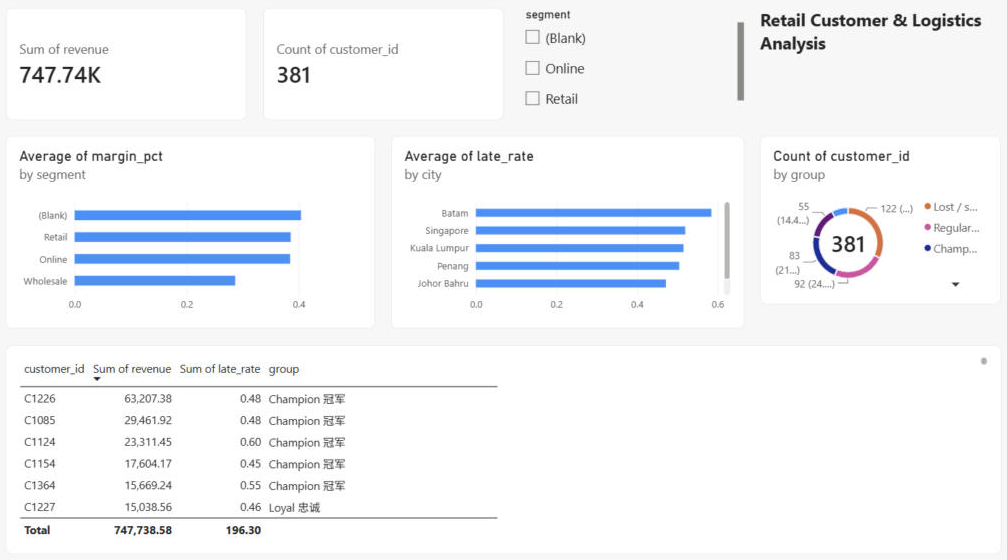

The page's visual inventory and layout, read from the dashboard file:
{"tool":"powerbi","page":{"name":"Page 1","canvas":[1280,720],"ordinal":0},"visuals":[{"type":"cardVisual","fields":{"Data":["Sum(Customers.revenue)"]},"box":[20,20,300,140],"z":0},{"type":"cardVisual","fields":{"Data":["CountNonNull(Customers.customer_id)"]},"box":[340,20,300,140],"z":1},{"type":"clusteredBarChart","fields":{"Category":["Customers.city"],"Y":["Avg(Customers.late_rate)"]},"box":[500,180,440,240],"z":2},{"type":"donutChart","fields":{"Category":["Customers.group"],"Y":["CountNonNull(Customers.customer_id)"]},"box":[960,180,300,210],"z":3},{"type":"clusteredBarChart","fields":{"Category":["Customers.segment"],"Y":["Avg(Customers.margin_pct)"]},"box":[20,180,460,240],"z":4},{"type":"slicer","fields":{"Values":["Customers.segment"]},"box":[660,20,280,140],"z":5},{"type":"tableEx","fields":{"Values":["Customers.customer_id","Sum(Customers.revenue)","Sum(Customers.late_rate)","Customers.group"]},"box":[20,440,1240,260],"z":6},{"type":"textbox","box":[960,20,300,140],"z":7}]}

Visuals, with their boxes in screenshot pixels (x1, y1, x2, y2), scaled from the page's 1280x720 canvas onto the 1007x560 screenshot:
cardVisual - Sum(Customers.revenue): <region>16, 16, 252, 124</region>
cardVisual - CountNonNull(Customers.customer_id): <region>267, 16, 504, 124</region>
clusteredBarChart - Customers.city x Avg(Customers.late_rate): <region>393, 140, 740, 327</region>
donutChart - Customers.group x CountNonNull(Customers.customer_id): <region>755, 140, 991, 303</region>
clusteredBarChart - Customers.segment x Avg(Customers.margin_pct): <region>16, 140, 378, 327</region>
slicer - Customers.segment: <region>519, 16, 740, 124</region>
tableEx - Customers.customer_id x Sum(Customers.revenue): <region>16, 342, 991, 544</region>
textbox: <region>755, 16, 991, 124</region>
